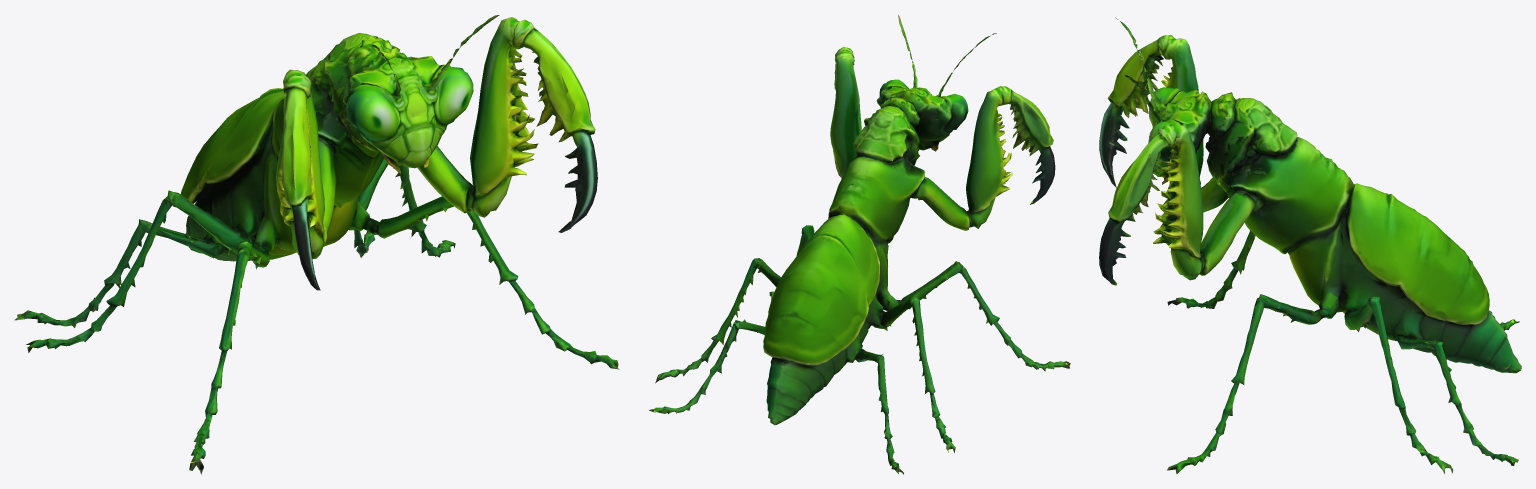
File: monster_40.glb
The picture shows the model from 3 angles, left to right: view 1: azimuth 30°, elevation 25°; view 2: azimuth 150°, elevation 25°; view 3: azimuth 270°, elevation 25°; orthographic projection. The views are drawn at different scales.
Visible parts, largest first — view 1: Magic_Mantis_0710132716_texture; view 2: Magic_Mantis_0710132716_texture; view 3: Magic_Mantis_0710132716_texture.
Part boxes in pixels (box(x1,y1,x2,y2)): Magic_Mantis_0710132716_texture: box(14, 15, 619, 474); Magic_Mantis_0710132716_texture: box(649, 14, 1070, 474); Magic_Mantis_0710132716_texture: box(1099, 17, 1521, 473).
Size of the model in its own units: 1.81 by 1.74 by 1.88.
1 material, 1 textured.
